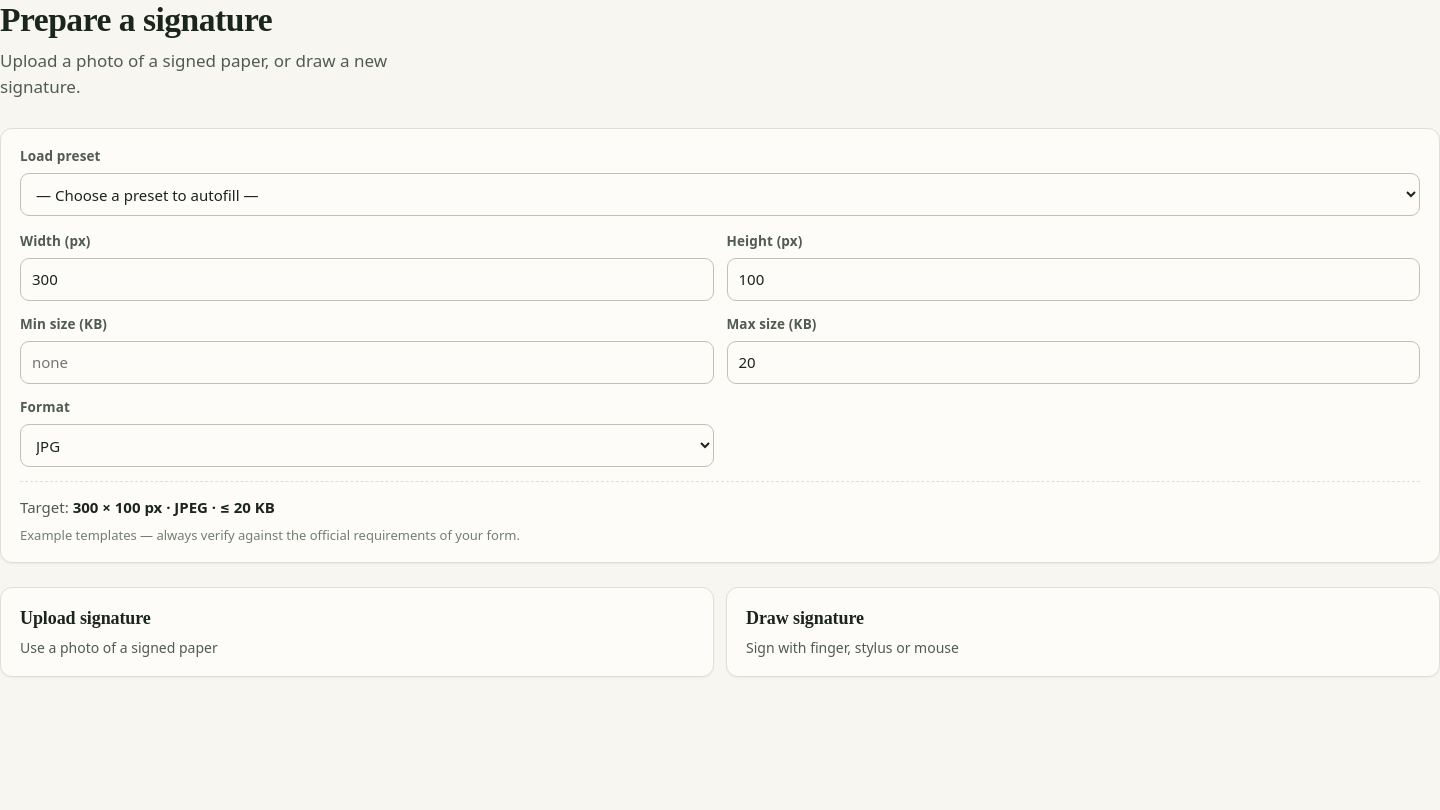
Test: SignatureView flow › surfaces processing errors, e.g. a blank signature
Click the button "Draw signature Sign with finger, stylus or mouse".
click(805, 618)  # box 726,587 -> 1439,677
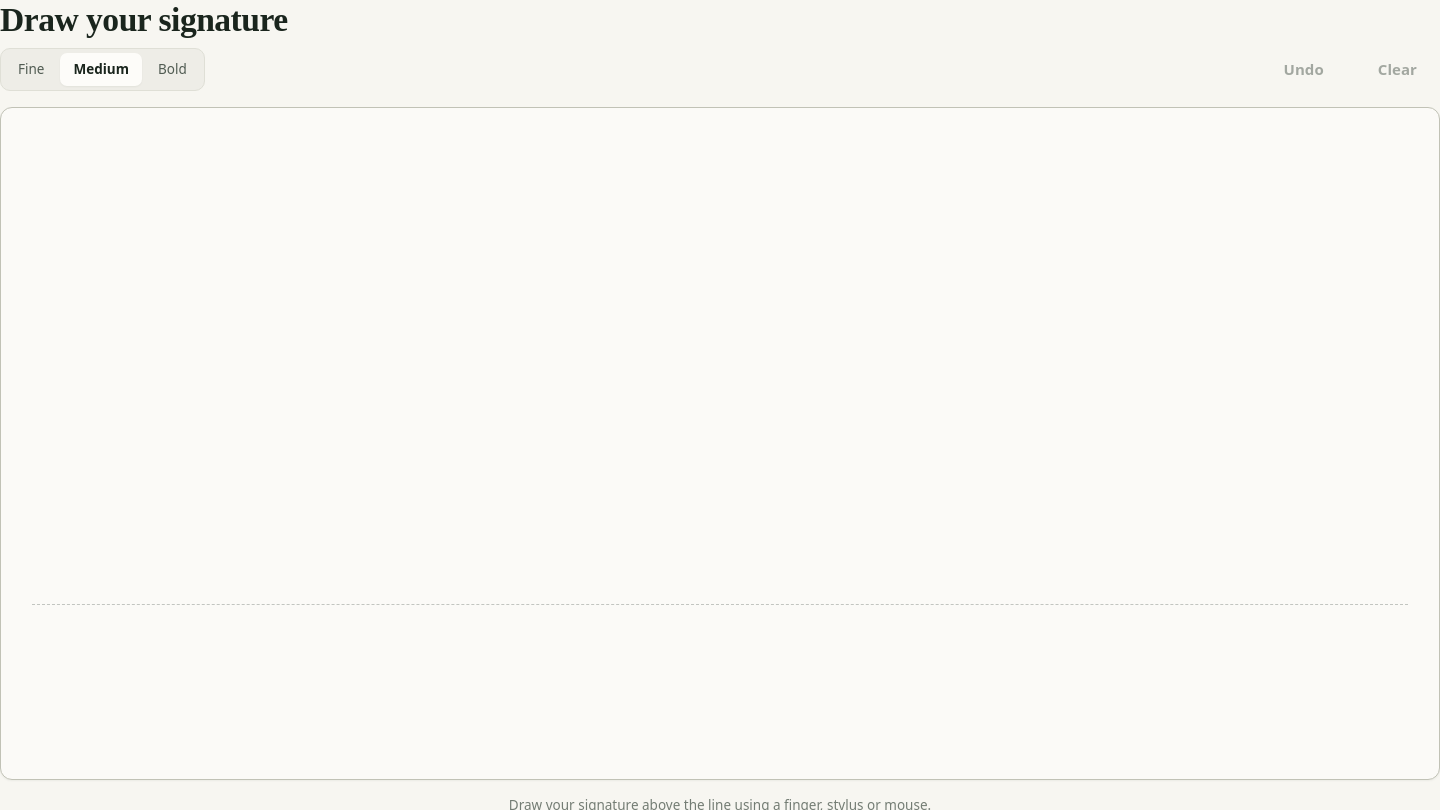
Press the mouse on the drawing named "signature drawing area" at (720, 443), box 0,107 -> 1439,780
(page scrolled)
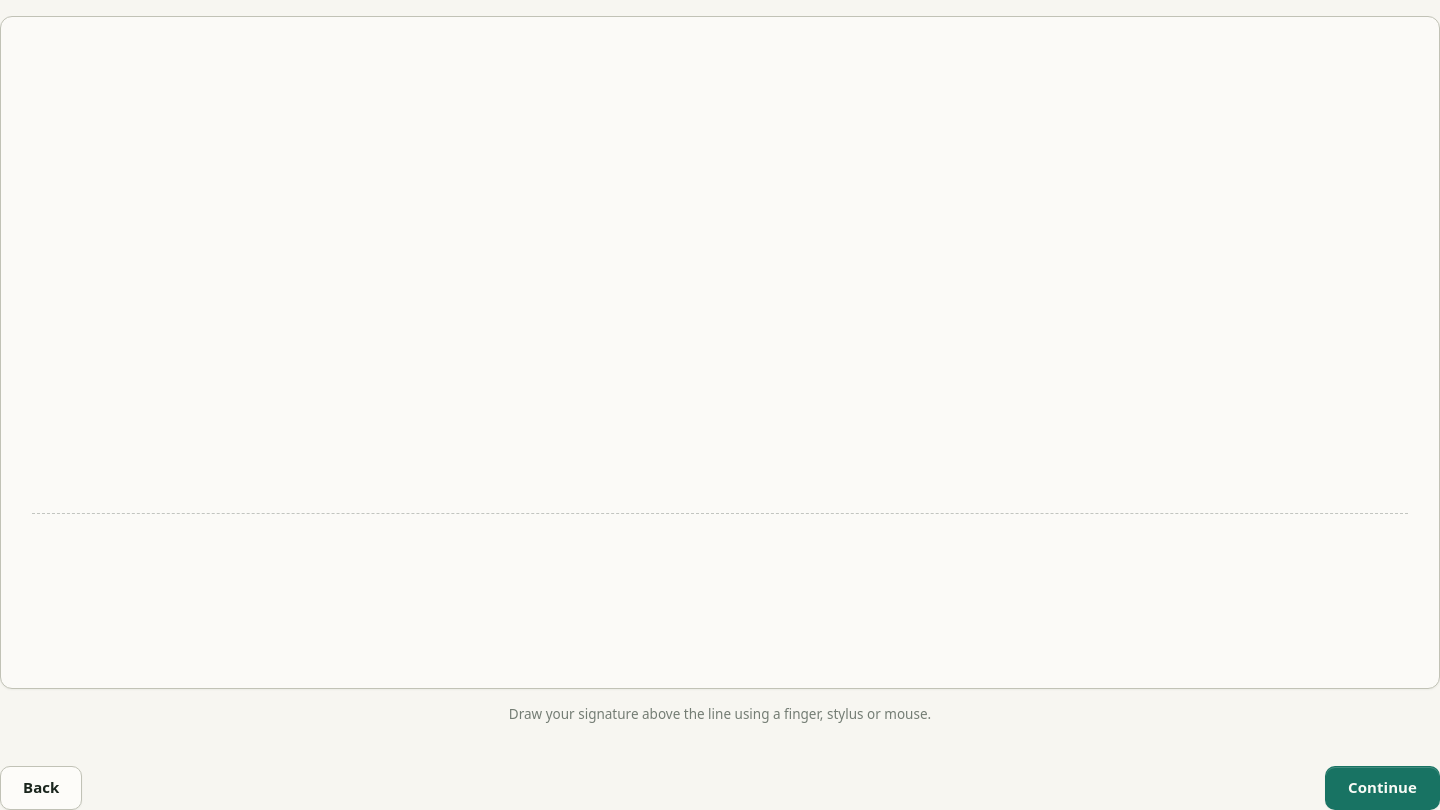
Click the button "Continue".
click(1382, 788)  # box 1325,766 -> 1439,809
(page scrolled)
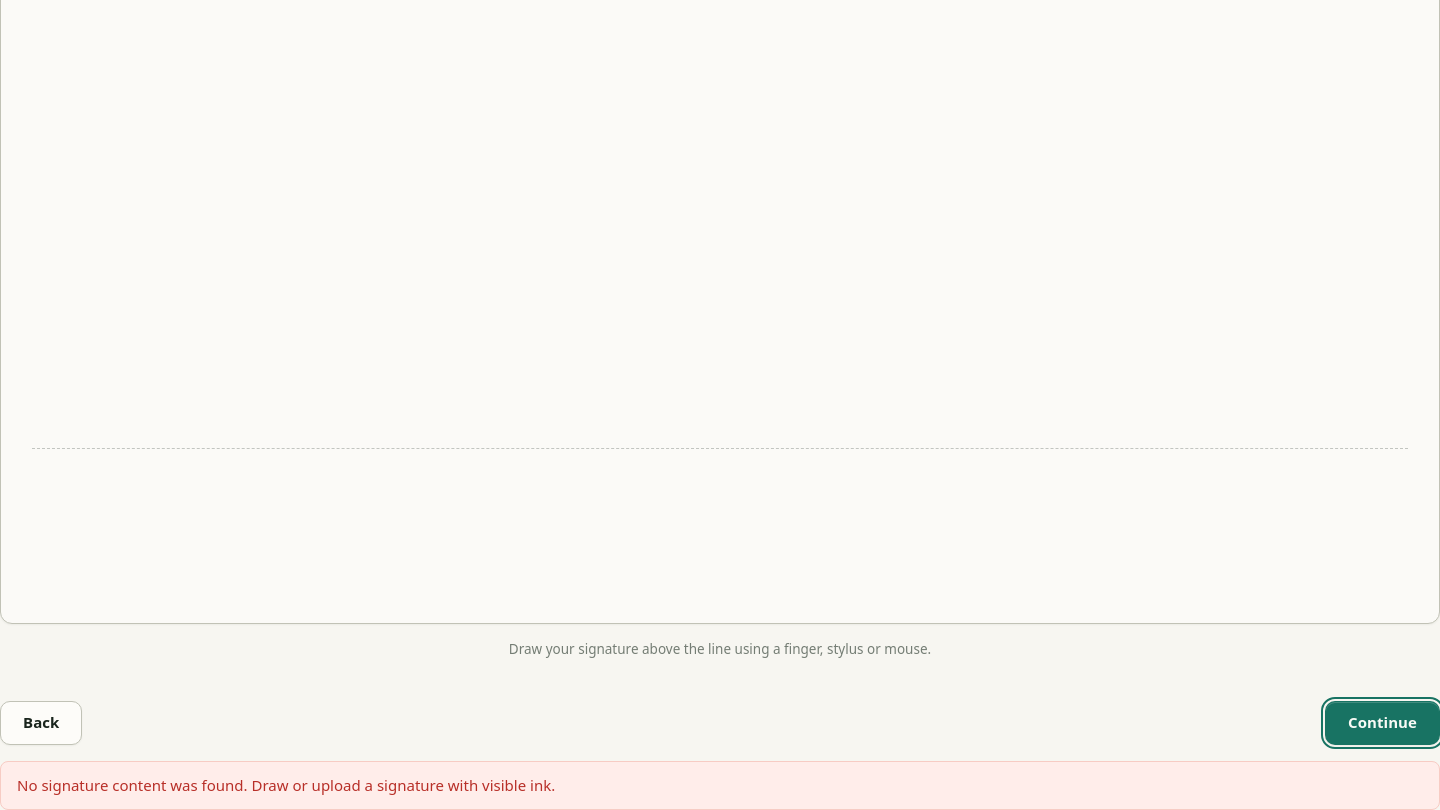
Expected: the message shows "No signature content", 17,775 -> 555,795
